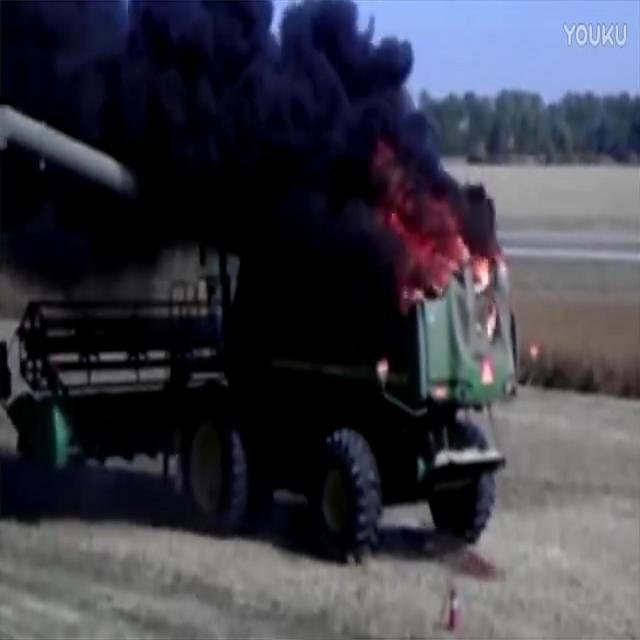Fire: (372, 140, 501, 296), (483, 305, 500, 339), (480, 358, 496, 382)
Smoke: (0, 0, 510, 310)
